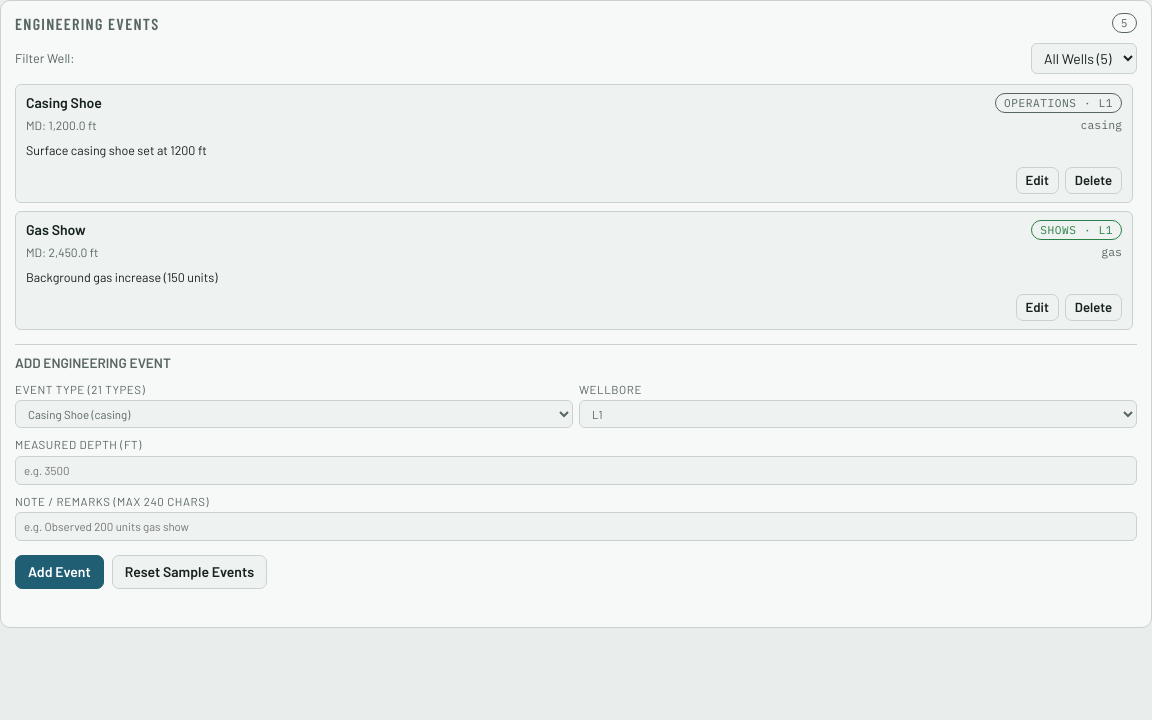
Test case: <EventEditor> › editing and cancelling › cancels editing and clears the form when Cancel is clicked
The image size is (1152, 720).
What coordinates should you click on to do the following:
click the button with aria-label "edit casing shoe"
I would click on:
 (1037, 180)
Its box is [1016, 167, 1059, 194].
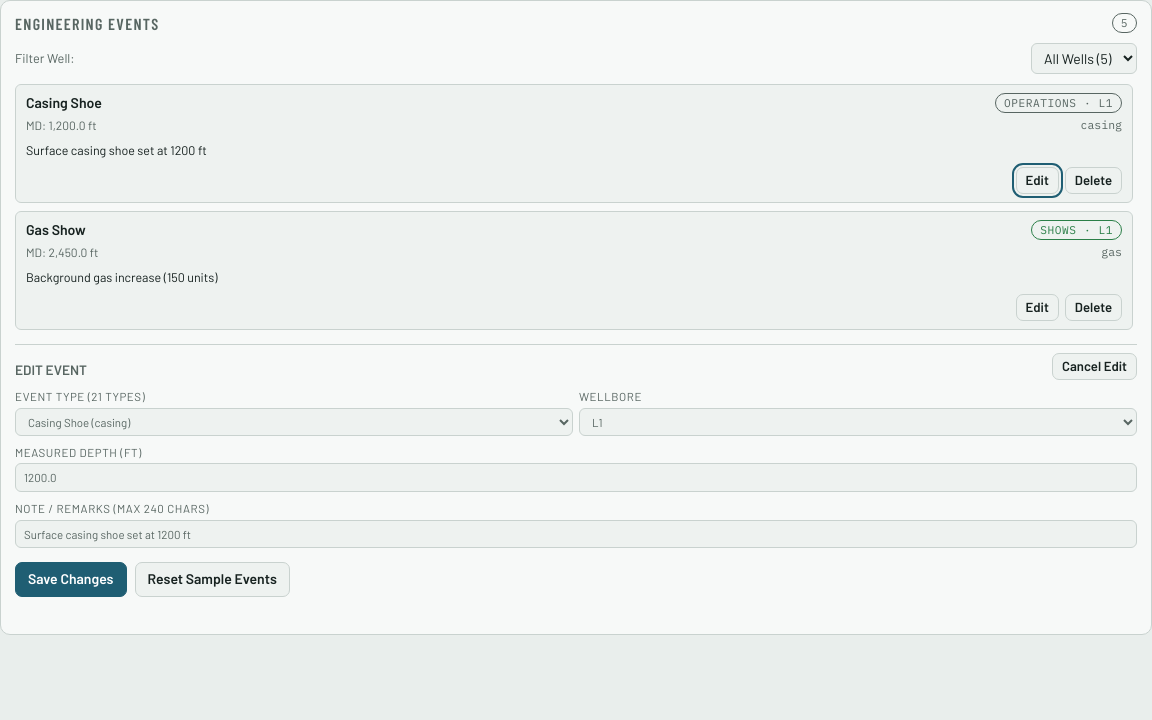
Now the button "Cancel Edit" is shown
What coordinates should you click on to do the following:
click the button "Cancel Edit"
I would click on:
 (1095, 366)
Its box is [1052, 353, 1137, 380].
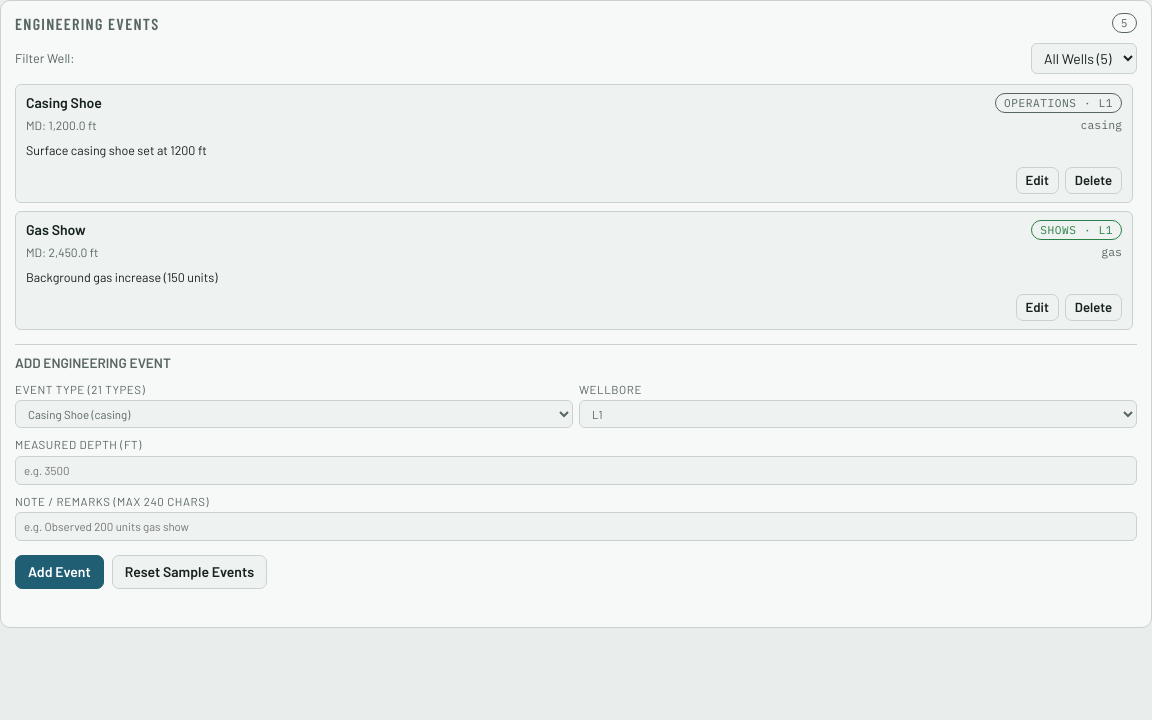
Now the button "Cancel Edit" is gone
Now the button "Add Event" is shown, box [15, 555, 104, 589]
Now the number field labelled "Measured Depth (ft)" is not empty, box [15, 456, 1137, 485]
